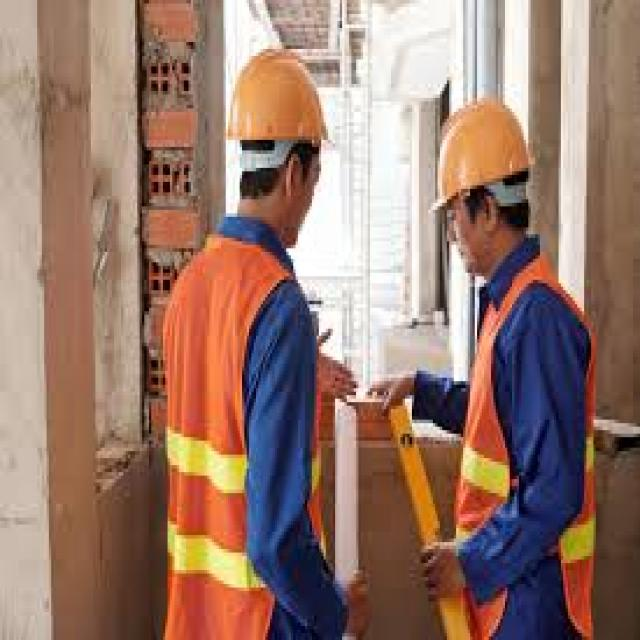Reflective-Jacket: (147, 224, 328, 626), (445, 259, 605, 636)
Safety-Helmet: (219, 38, 340, 172), (426, 88, 542, 220)
